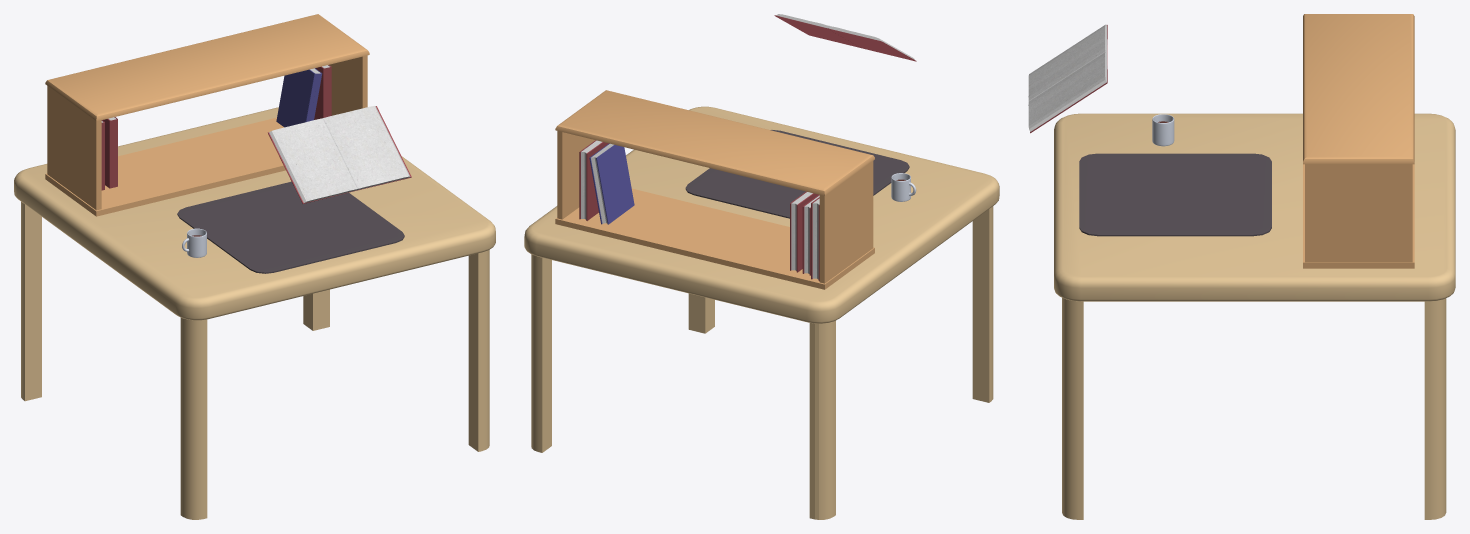
Rendered from TableBookShelf-rGiv1XmQ.glb.
The picture shows the model from 3 angles, left to right: view 1: azimuth 30°, elevation 25°; view 2: azimuth 150°, elevation 25°; view 3: azimuth 270°, elevation 25°; orthographic projection. The views are drawn at different scales.
Visible parts, largest first — view 1: Table, Shelf, Mat, Paper, Paper.001, BlueLittleBook, RedBigBook.002, CoffeeMug; view 2: Table, Shelf, Mat, BlueLittleBook, BookHalf, Book, RedBigBook.001, CoffeeMug, RedBigBook.002; view 3: Table, Shelf, Mat, Paper.001, Paper, CoffeeMug.
Part boxes in pixels (x1,y1,x2,y2): Table: (14,107,495,519); Shelf: (45,14,369,216); Mat: (177,181,404,273); Paper: (269,118,357,202); Paper.001: (323,106,410,189); BlueLittleBook: (276,69,317,127); RedBigBook.002: (102,119,113,188); CoffeeMug: (182,228,206,257); Table: (524,106,999,519); Shelf: (555,90,874,289); Mat: (685,130,909,218); BlueLittleBook: (596,145,634,224); BookHalf: (828,28,916,61); Book: (774,15,861,48); RedBigBook.001: (586,142,608,220); CoffeeMug: (891,173,916,201); RedBigBook.002: (796,193,818,272); Table: (1054,113,1455,519); Shelf: (1303,14,1414,268); Mat: (1079,153,1271,236); Paper.001: (1028,52,1106,131); Paper: (1028,24,1106,100); CoffeeMug: (1152,114,1174,146).
Bounding box in the file's own units: 1.5 × 1.6 × 1.6.
8 materials, 1 textured.
